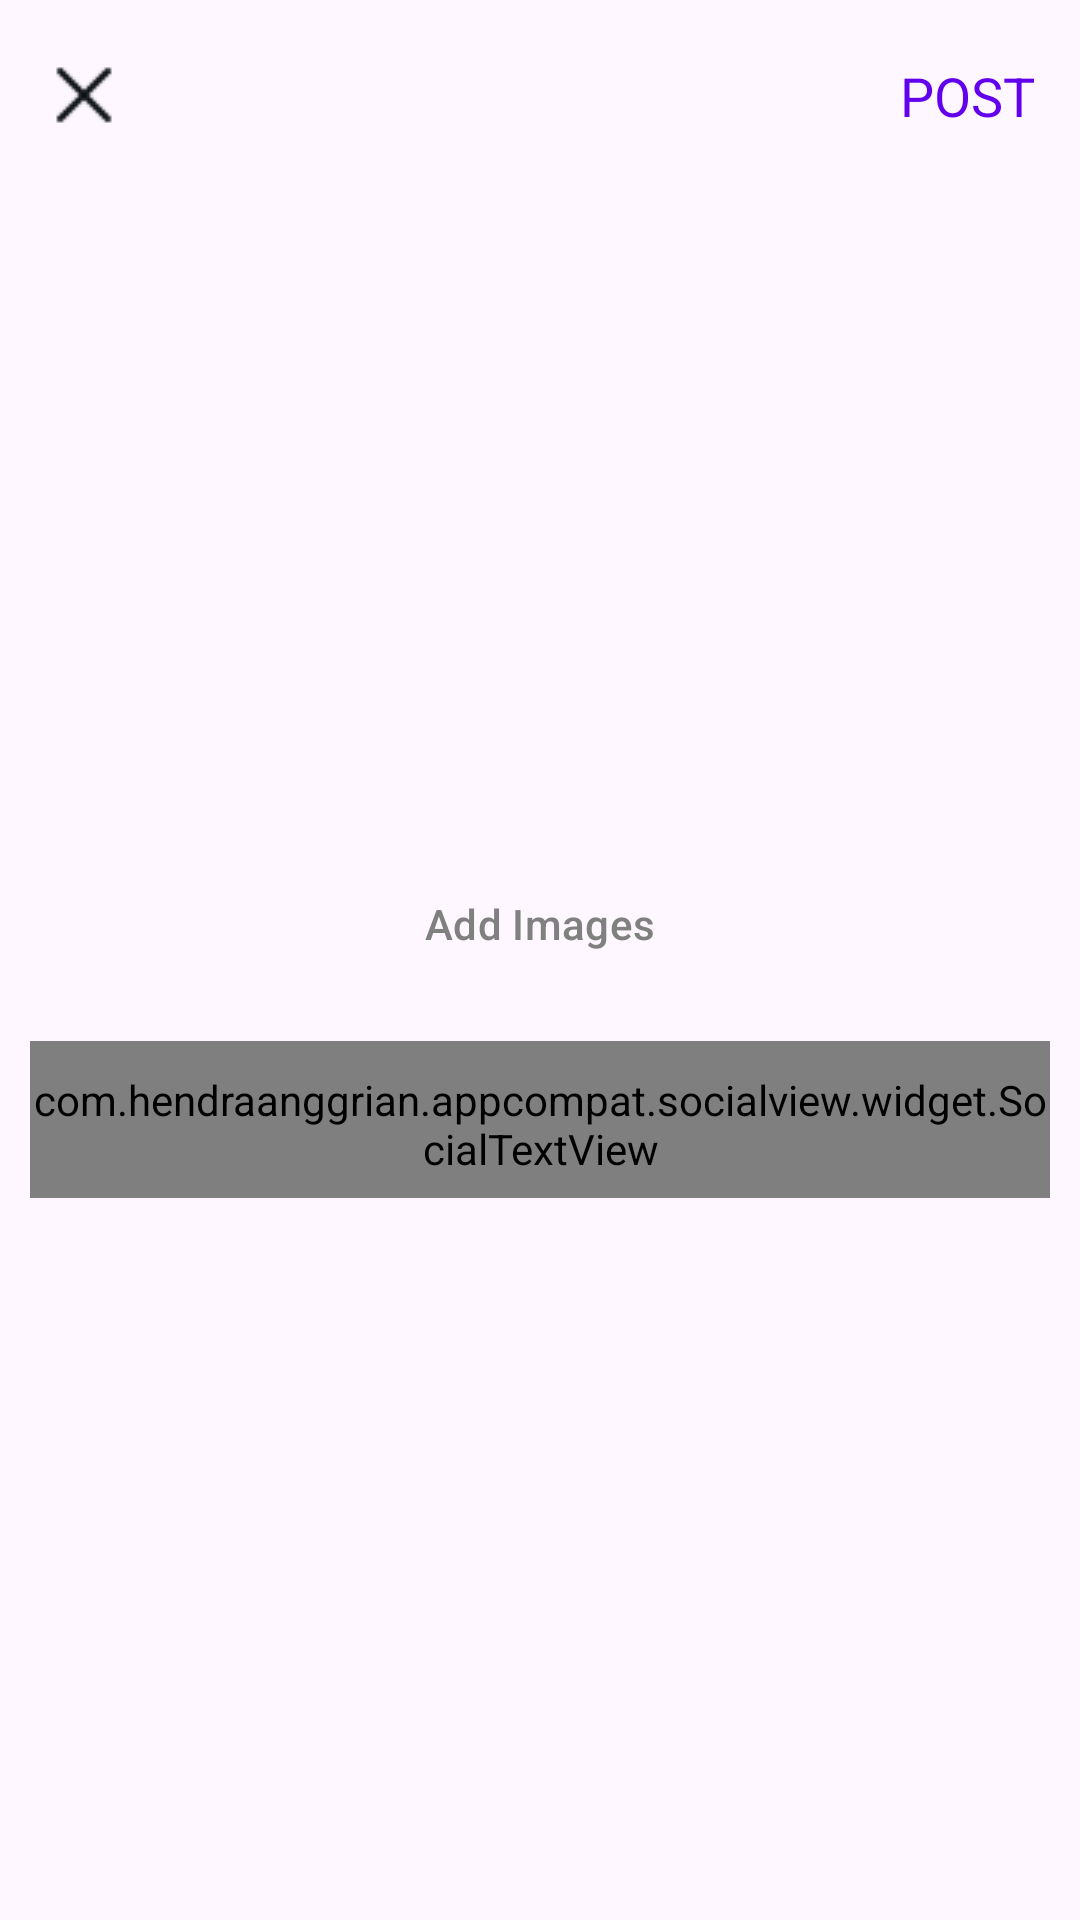

Locate icon controls on the screen. Image size 1080px×1920px, boxes as (x1, y1, x2, y2).
close: (56, 67, 112, 123)
